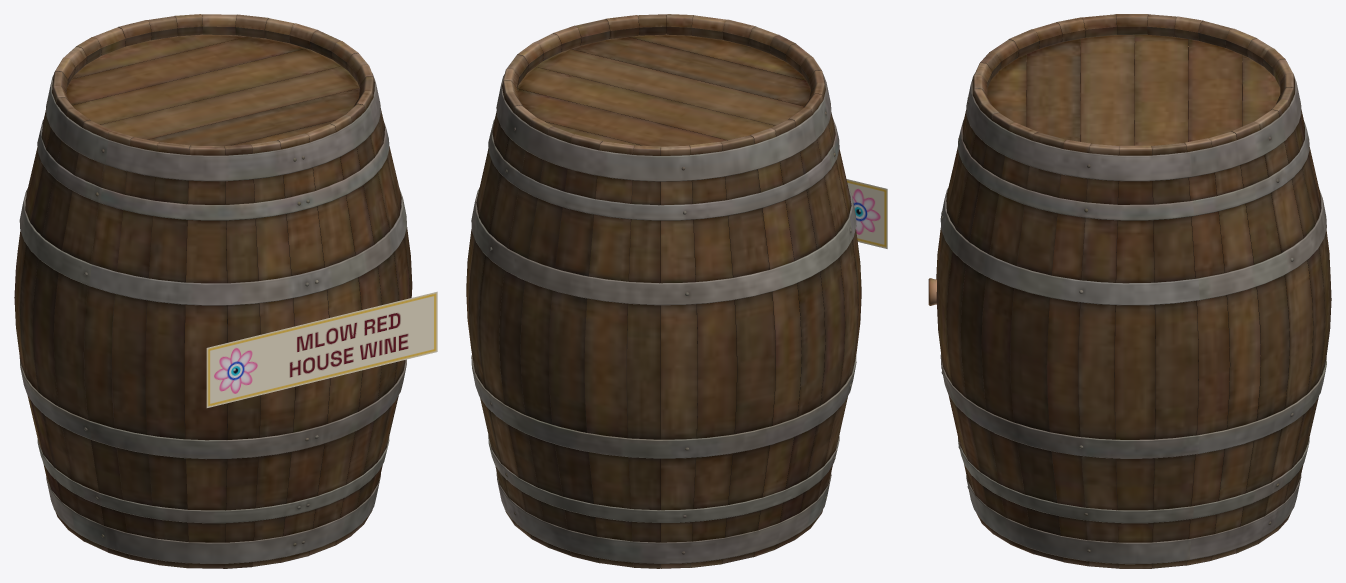
Rendered from nyb_copa_barrel.glb.
3 views of the same model, side by side, from view 1: azimuth 30°, elevation 25°; view 2: azimuth 150°, elevation 25°; view 3: azimuth 270°, elevation 25° (orthographic).
Parts seen in each view (by area): view 1: wine_barrel_01_Lid, add_lbl_05d0ce3d2e.png; view 2: wine_barrel_01_Lid, add_lbl_05d0ce3d2e.png; view 3: wine_barrel_01_Lid.
Boxes of the visible parts, x1,y1,x2,y2 form: wine_barrel_01_Lid: [14, 14, 412, 568]; add_lbl_05d0ce3d2e.png: [206, 291, 437, 407]; wine_barrel_01_Lid: [466, 14, 861, 568]; add_lbl_05d0ce3d2e.png: [846, 179, 887, 248]; wine_barrel_01_Lid: [928, 14, 1331, 568].
Size of the model in its own units: 0.7419 by 0.8713 by 0.7787.
2 materials, 2 textured.
